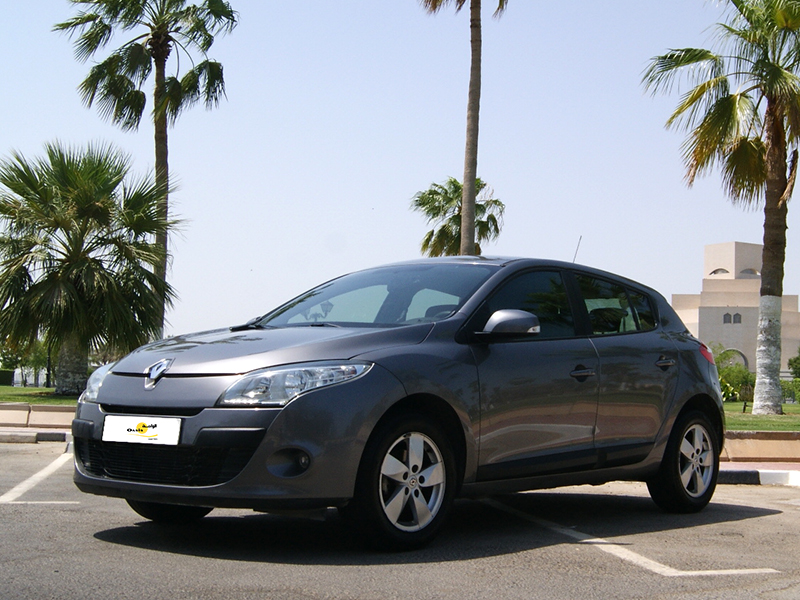other: (78, 249, 726, 549)
